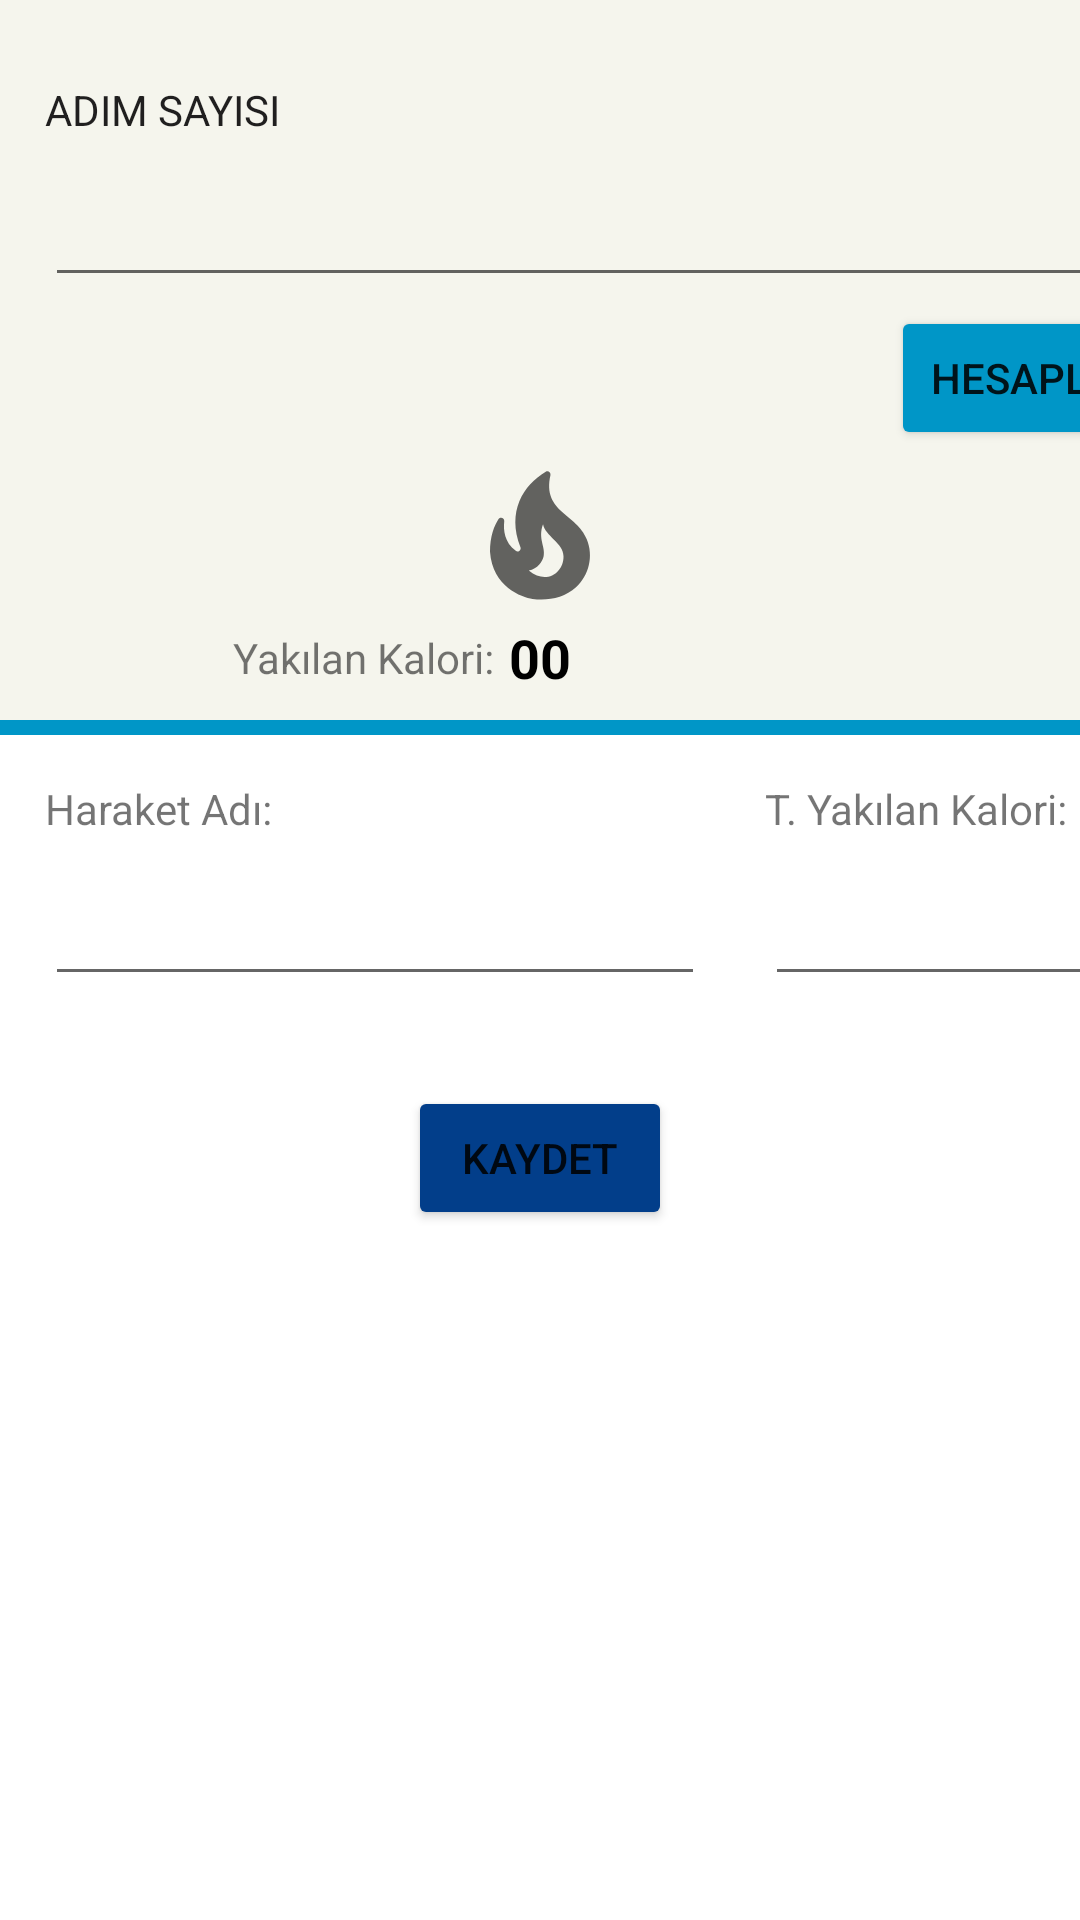

Screen size 1080w x 1920h. Icon name, then its center in pixels as [x,y]:
yakilan: [540,535]
